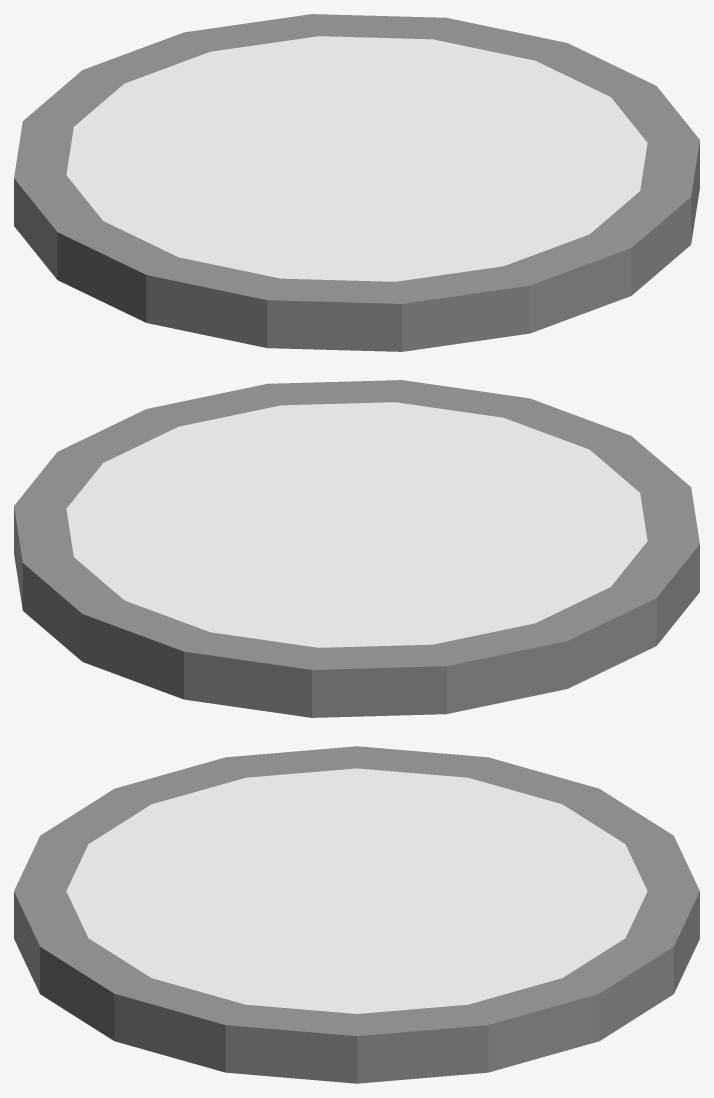
File: roundchunk.fbx
3 views of the same model, one above another, from view 1: azimuth 30°, elevation 25°; view 2: azimuth 150°, elevation 25°; view 3: azimuth 270°, elevation 25° (orthographic).
Parts seen in each view (by area): view 1: roundchunk; view 2: roundchunk; view 3: roundchunk.
Part boxes in pixels (left/top/right/bottom): roundchunk: left=14, top=14, right=699, bottom=351; roundchunk: left=14, top=380, right=699, bottom=717; roundchunk: left=14, top=746, right=699, bottom=1083.
Bounding box in the file's own units: 65.5 × 65.5 × 5.01.
